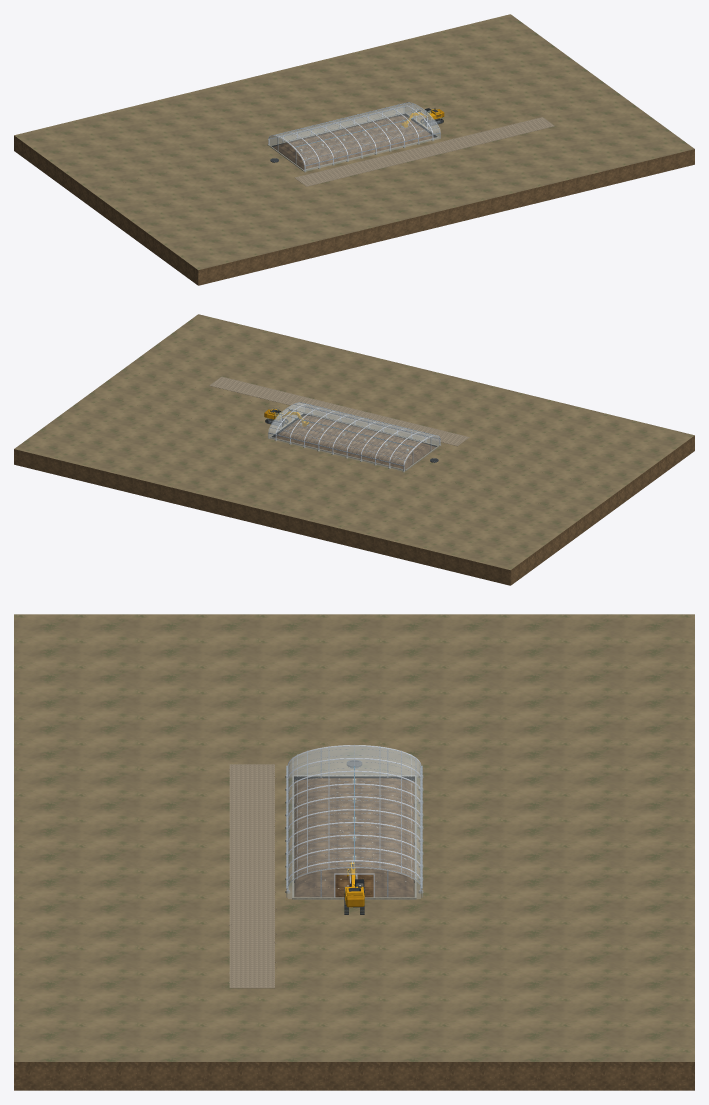
Rendered from landfarm.glb.
3 renders of one model, top to bottom at view 1: azimuth 30°, elevation 25°; view 2: azimuth 150°, elevation 25°; view 3: azimuth 270°, elevation 25°, orthographic. The views are drawn at different scales.
Visible parts, largest first — view 1: ground__terrain_top_ground, ground__subsoil_earth, cover__roof_panels_pc, ground__excavation_walls_earth, ground__driveway_gravel, cover__side_panels_pc, soil__terrain_00_soil, cover__purlins_alu_dark, soil__terrain_02_soil, soil__terrain_01_soil, soil__terrain_03_soil, cover__gable_panels_pc (+1 smaller); view 2: ground__terrain_top_ground, ground__subsoil_earth, cover__roof_panels_pc, ground__excavation_walls_earth, ground__driveway_gravel, cover__side_panels_pc, soil__terrain_00_soil, cover__purlins_alu_dark, soil__terrain_02_soil, soil__terrain_01_soil, soil__terrain_03_soil, cover__gable_panels_pc (+1 smaller); view 3: ground__terrain_top_ground, cover__roof_panels_pc, ground__subsoil_earth, ground__driveway_gravel, ground__excavation_walls_earth, cover__gable_panels_pc, soil__terrain_03_soil, soil__terrain_01_soil, soil__terrain_02_soil, soil__terrain_00_soil, cover__purlins_alu_dark, cover__pc_seam_caps_alu_dark (+1 smaller).
Part boxes in pixels (<box>): ground__terrain_top_ground: <box>14,14,694,269</box>; ground__subsoil_earth: <box>14,141,694,285</box>; cover__roof_panels_pc: <box>268,102,440,165</box>; ground__excavation_walls_earth: <box>14,135,694,275</box>; ground__driveway_gravel: <box>294,117,554,186</box>; cover__side_panels_pc: <box>268,107,440,170</box>; soil__terrain_00_soil: <box>273,137,337,169</box>; cover__purlins_alu_dark: <box>268,102,439,165</box>; soil__terrain_02_soil: <box>340,122,402,153</box>; soil__terrain_01_soil: <box>309,130,369,160</box>; soil__terrain_03_soil: <box>374,115,433,145</box>; cover__gable_panels_pc: <box>269,103,439,169</box>; ground__terrain_top_ground: <box>14,314,694,569</box>; ground__subsoil_earth: <box>14,441,694,585</box>; cover__roof_panels_pc: <box>268,402,440,465</box>; ground__excavation_walls_earth: <box>14,435,694,575</box>; ground__driveway_gravel: <box>209,376,469,446</box>; cover__side_panels_pc: <box>268,407,440,470</box>; soil__terrain_00_soil: <box>371,437,435,469</box>; cover__purlins_alu_dark: <box>269,402,440,465</box>; soil__terrain_02_soil: <box>306,422,367,453</box>; soil__terrain_01_soil: <box>339,430,398,460</box>; soil__terrain_03_soil: <box>275,415,334,445</box>; cover__gable_panels_pc: <box>269,403,439,469</box>; ground__terrain_top_ground: <box>14,614,694,1061</box>; cover__roof_panels_pc: <box>288,745,420,885</box>; ground__subsoil_earth: <box>14,1072,694,1090</box>; ground__driveway_gravel: <box>229,764,274,988</box>; ground__excavation_walls_earth: <box>14,1062,694,1071</box>; cover__gable_panels_pc: <box>288,746,420,898</box>; soil__terrain_03_soil: <box>294,860,414,897</box>; soil__terrain_01_soil: <box>294,800,414,838</box>; soil__terrain_02_soil: <box>294,830,414,867</box>; soil__terrain_00_soil: <box>294,778,414,807</box>; cover__purlins_alu_dark: <box>287,745,421,887</box>; cover__pc_seam_caps_alu_dark: <box>288,749,420,882</box>.
Size of the model in its own units: 140 by 8.9 by 90.
Materials: 27 (27 with a texture image).
